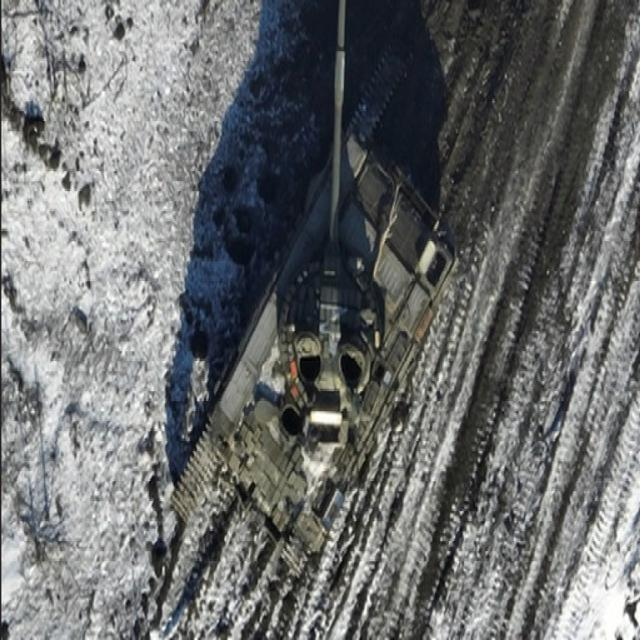TANK: (186, 2, 456, 578)
